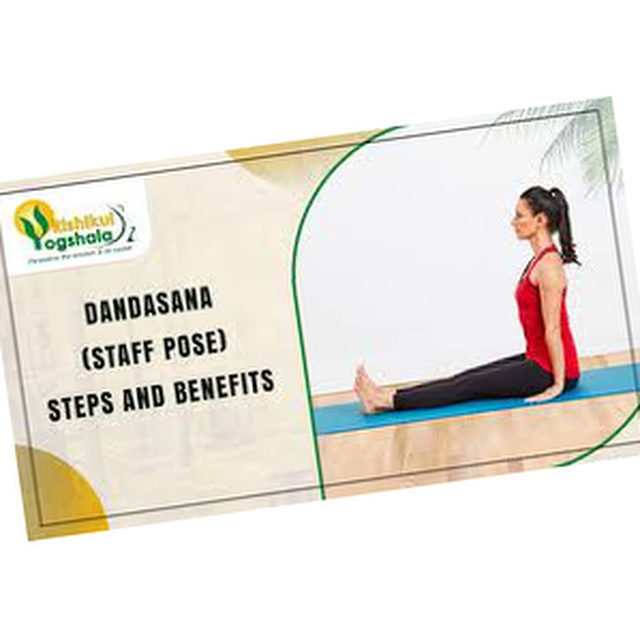Staff_Pose: (354, 184, 583, 417)
